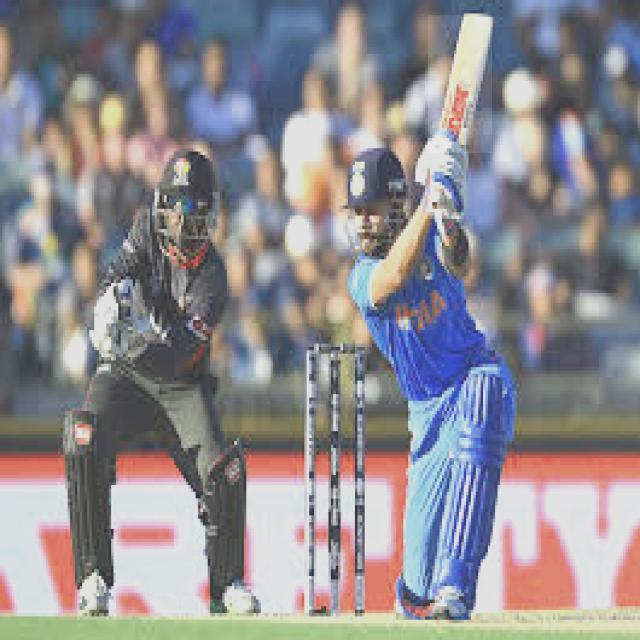bat: (433, 14, 493, 153)
toe: (461, 6, 500, 19)
